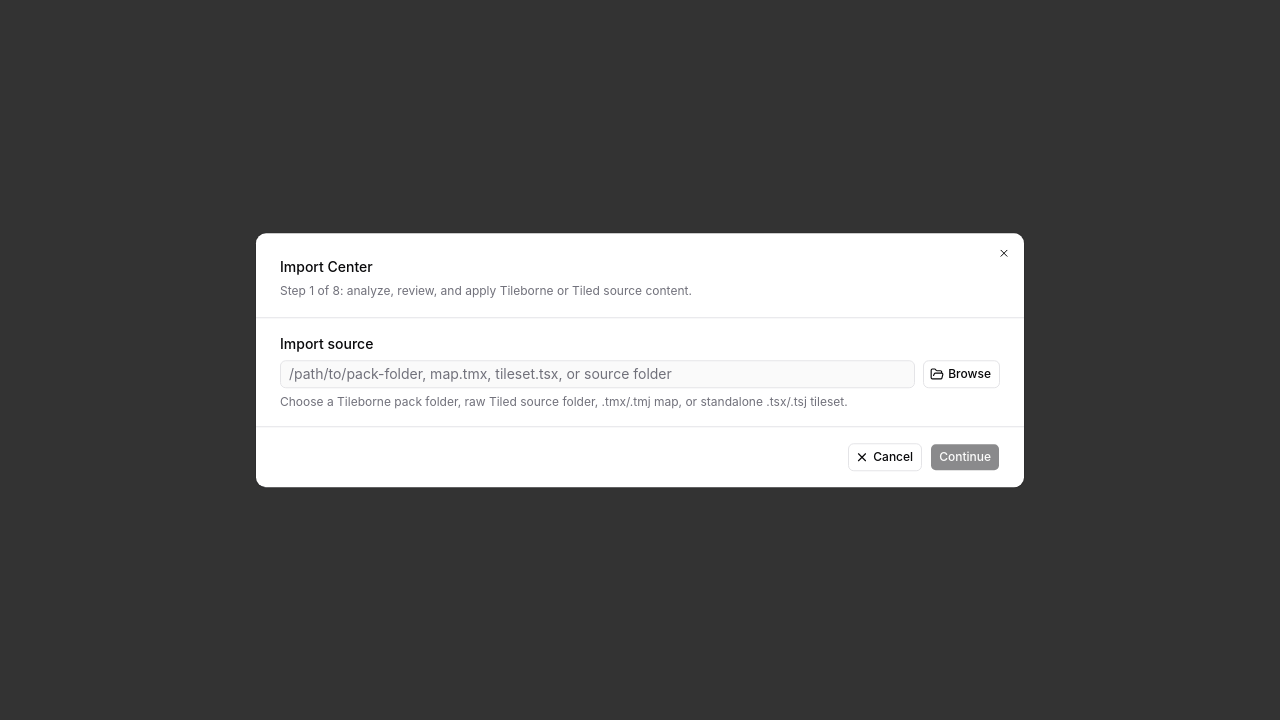
Tiled import wizard steps › routes a Tiled source folder into scan
This screenshot has width=1280, height=720.
Type "/maps/forest" into the field named "Import source path" at (598, 374), box [280,360,915,388]
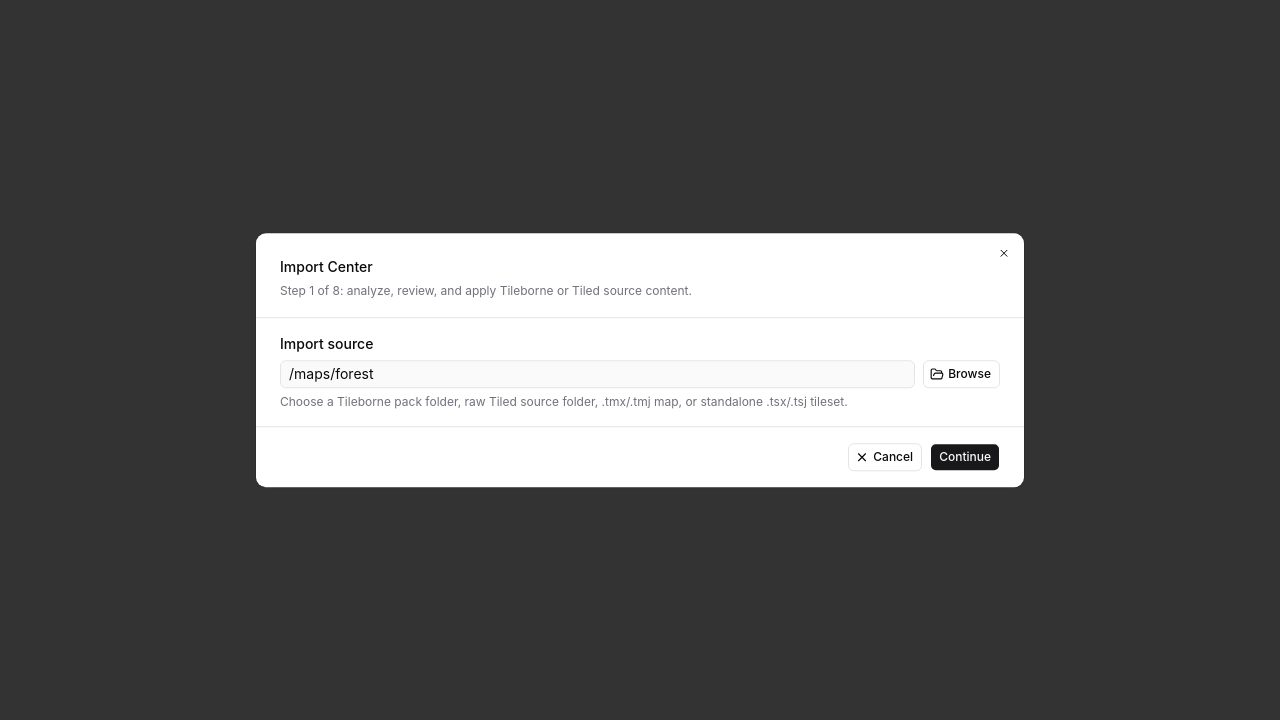
Click the button "Continue" at (965, 457), box [930,443,1000,471]
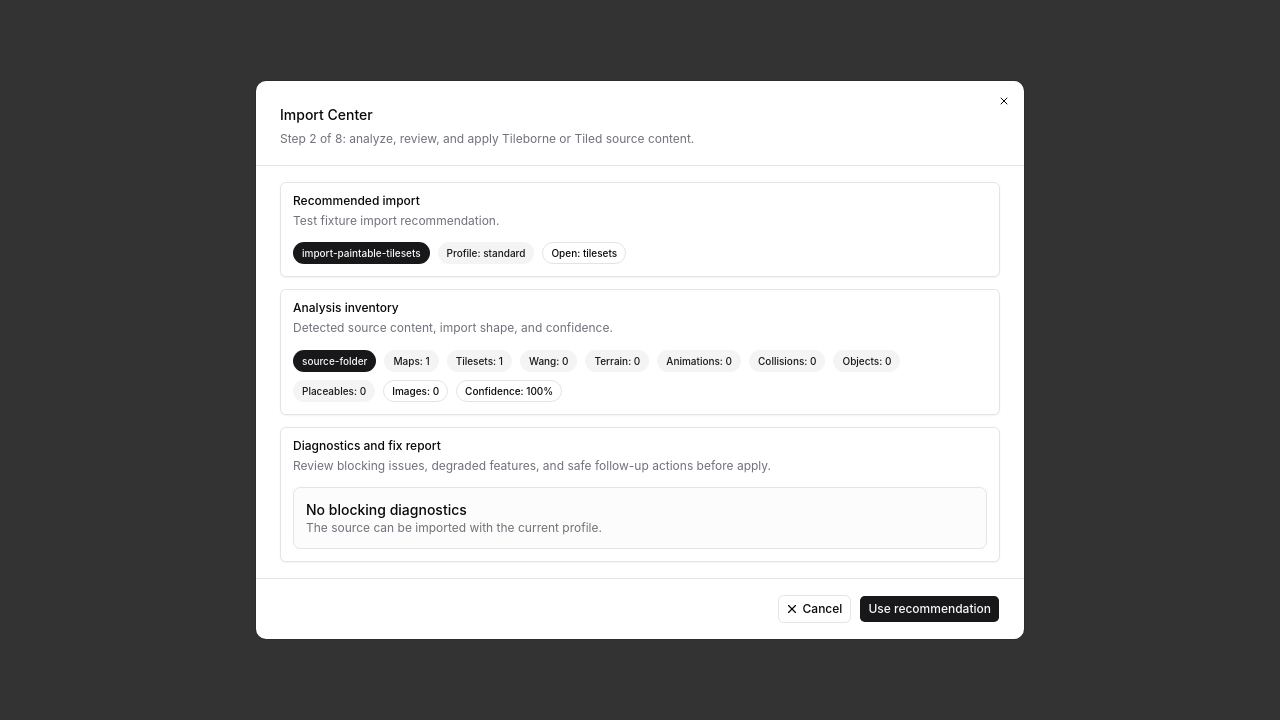
Now the text "Analysis inventory" is shown, box [293,300,399,315]
